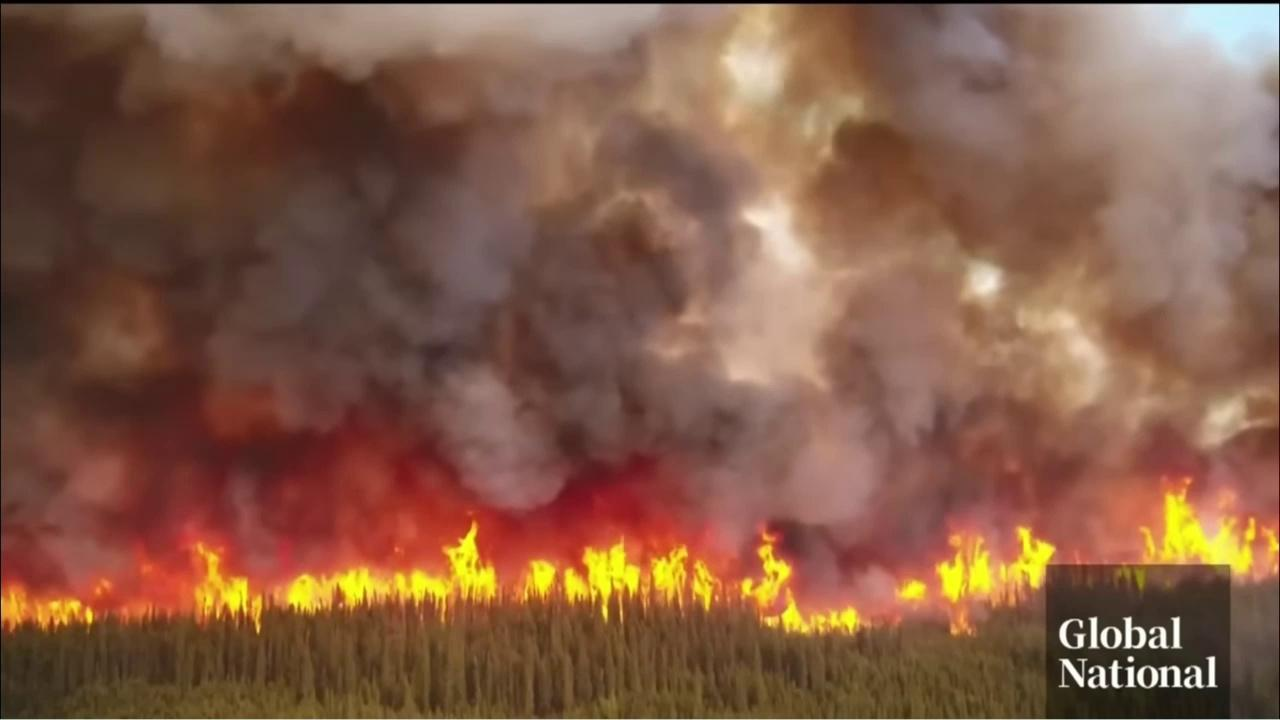fire: (0, 470, 1280, 634)
smoke: (2, 0, 1280, 619)
